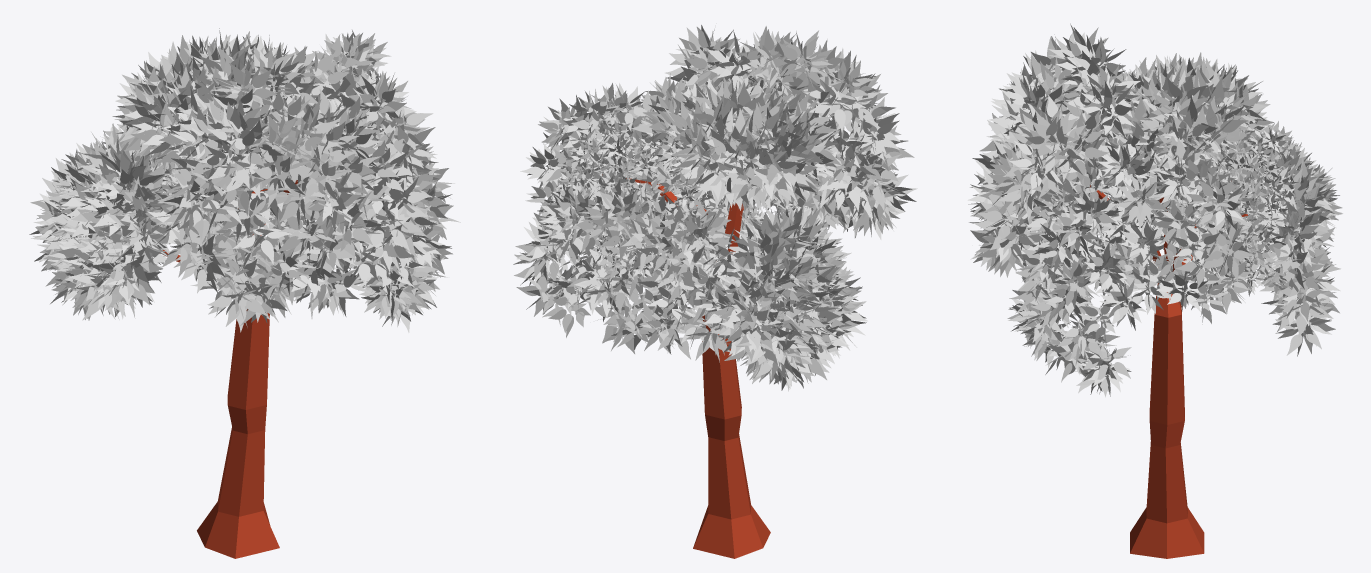
File: Environmental Tree LOD2.fbx
3 views of the same model, side by side, from view 1: azimuth 30°, elevation 25°; view 2: azimuth 150°, elevation 25°; view 3: azimuth 270°, elevation 25° (orthographic). The views are drawn at different scales.
Visible parts, largest first — view 1: Leaves 3, Trunk 3; view 2: Leaves 3, Trunk 3; view 3: Leaves 3, Trunk 3.
Part boxes in pixels (x1,y1,x2,y2): Leaves 3: (29,28,460,332); Trunk 3: (163,180,297,558); Leaves 3: (513,25,917,391); Trunk 3: (602,174,770,558); Leaves 3: (967,23,1342,397); Trunk 3: (1089,181,1247,558).
Size of the model in its own units: 9.39 by 13 by 9.19.
